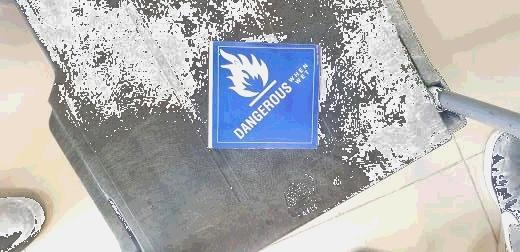dangerous-when-wet: (212, 41, 320, 149)
